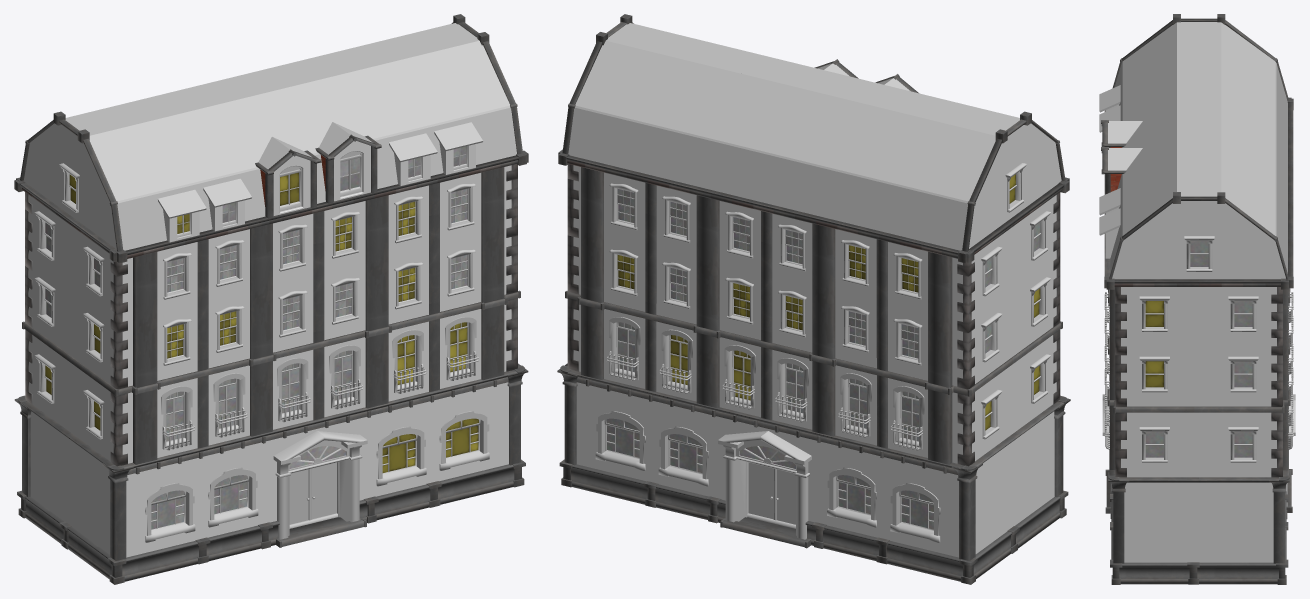
The model's file is Building_06.fbx.
The picture shows the model from 3 angles, left to right: view 1: azimuth 30°, elevation 25°; view 2: azimuth 150°, elevation 25°; view 3: azimuth 270°, elevation 25°; orthographic projection. The views are drawn at different scales.
Visible parts, largest first — view 1: Wall_01.004, Roof_01.008, Base_01, Wall_03.001, Trim_01.004, Trim_02.005, Trim_03.006, Base_02; view 2: Wall_02.003, Roof_02.005, Base_02, Wall_03.001, Roof_01.008, Trim_03.006, Trim_04.006, Trim_01.004, Base_01; view 3: Wall_04.001, Roof_01.008, Roof_02.005, Base_01, Base_02, Wall_01.004, Wall_02.003, Trim_02.005, Trim_04.006.
Part boxes in pixels (bbox=[...]): Wall_01.004: bbox=[114, 165, 520, 464]; Roof_01.008: bbox=[59, 22, 526, 263]; Base_01: bbox=[102, 363, 528, 584]; Wall_03.001: bbox=[14, 123, 116, 579]; Trim_01.004: bbox=[110, 261, 127, 466]; Trim_02.005: bbox=[506, 164, 517, 371]; Trim_03.006: bbox=[25, 192, 32, 404]; Base_02: bbox=[14, 395, 31, 518]; Wall_02.003: bbox=[565, 165, 971, 464]; Roof_02.005: bbox=[558, 32, 1007, 263]; Base_02: bbox=[557, 365, 982, 584]; Wall_03.001: bbox=[967, 123, 1069, 578]; Roof_01.008: bbox=[606, 14, 1069, 181]; Trim_03.006: bbox=[957, 262, 974, 466]; Trim_04.006: bbox=[567, 164, 578, 371]; Trim_01.004: bbox=[1053, 192, 1060, 404]; Base_01: bbox=[1054, 395, 1070, 518]; Wall_04.001: bbox=[1106, 201, 1288, 584]; Roof_01.008: bbox=[1099, 14, 1221, 288]; Roof_02.005: bbox=[1217, 14, 1293, 288]; Base_01: bbox=[1102, 303, 1129, 584]; Base_02: bbox=[1269, 303, 1295, 584]; Wall_01.004: bbox=[1104, 287, 1115, 469]; Wall_02.003: bbox=[1282, 288, 1293, 470]; Trim_02.005: bbox=[1115, 287, 1126, 477]; Trim_04.006: bbox=[1271, 287, 1282, 477].
Size of what is drawn, in the model's own units: 19.71 by 19.35 by 8.85.
